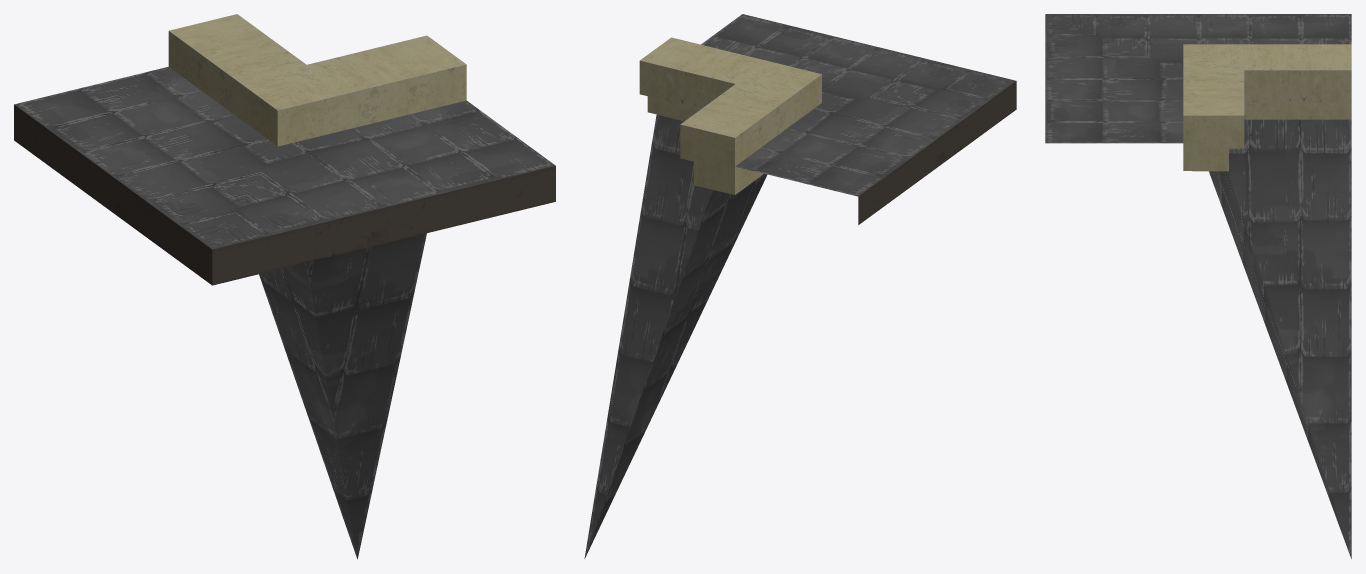
Rendered from Roof_SlateCornice_InnerCorner.gltf.
The picture shows the model from 3 angles, left to right: view 1: azimuth 30°, elevation 25°; view 2: azimuth 150°, elevation 25°; view 3: azimuth 270°, elevation 25°; orthographic projection. The views are drawn at different scales.
Visible parts, largest first — view 1: Roof_SlateCornice_InnerCorner; view 2: Roof_SlateCornice_InnerCorner; view 3: Roof_SlateCornice_InnerCorner.
Part boxes in pixels (x1=…): Roof_SlateCornice_InnerCorner: x1=14, y1=14, x2=555, y2=559; Roof_SlateCornice_InnerCorner: x1=584, y1=14, x2=1016, y2=558; Roof_SlateCornice_InnerCorner: x1=1045, y1=14, x2=1351, y2=558.
Bounding box in the file's own units: 2 × 3.2 × 2.
3 materials, 3 textured.
